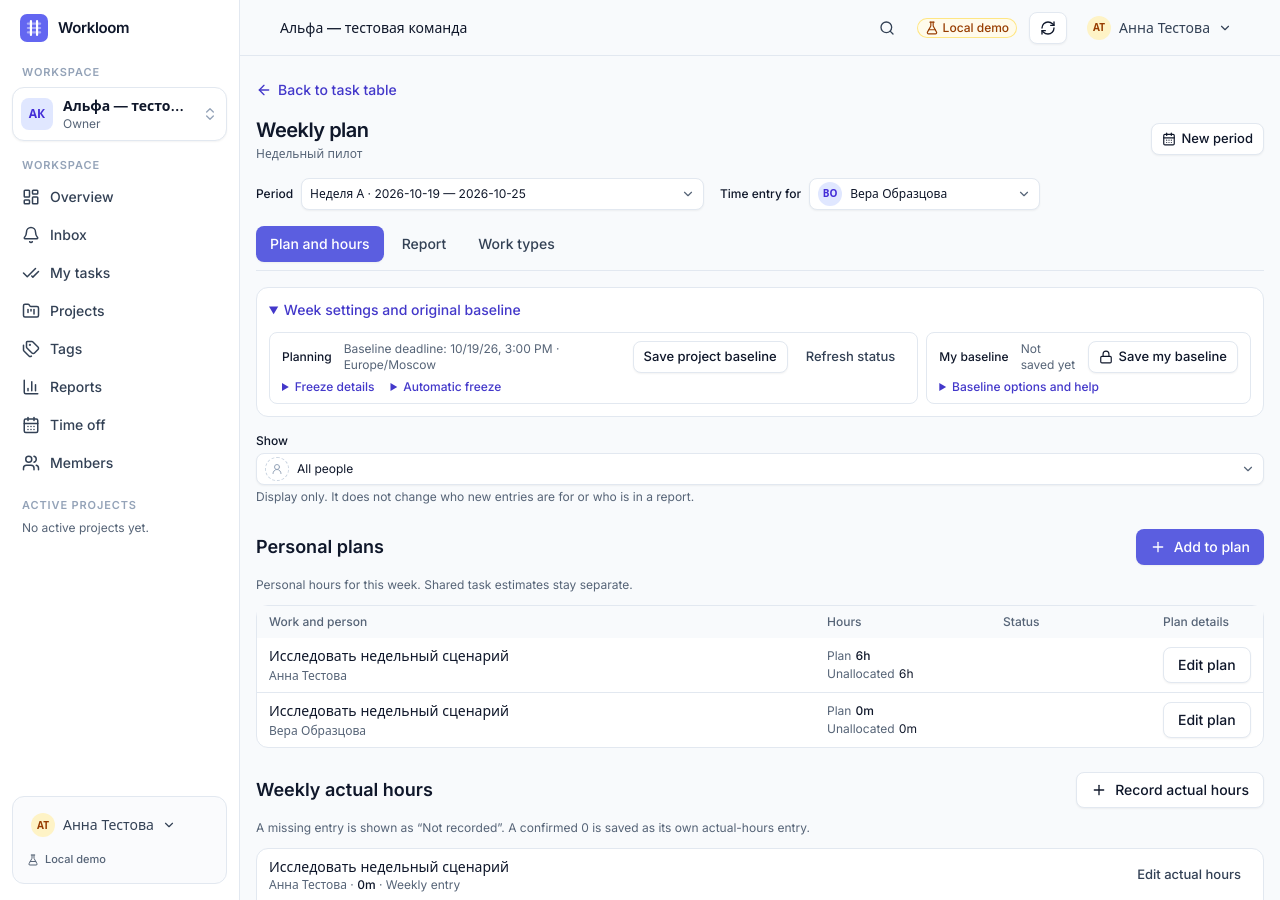
Test: weekly plans and hours display lens › announces a hidden saved-plan draft and restores its exact person and hours through Show all
Expected: the table named "Personal plans" is shown, [257,606,1263,747]
Click the 2nd button "Edit plan": coordinates (1207, 720) [1163,702,1251,738]
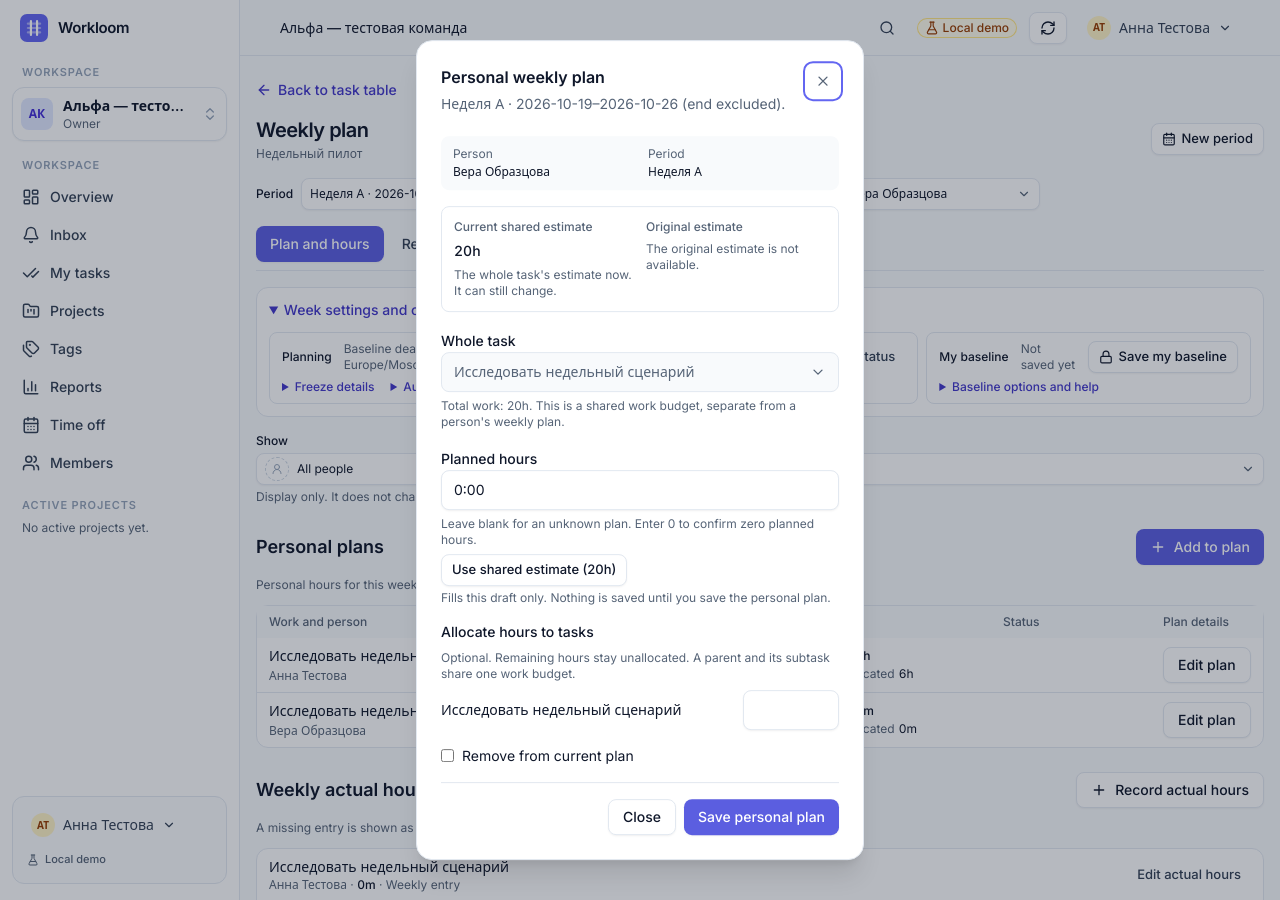
Replace the text in the field labelled "Planned hours" with "2:15": coordinates (640, 490) [441,470,839,510]
Click the button named "Close": coordinates (823, 81) [807,65,839,97]
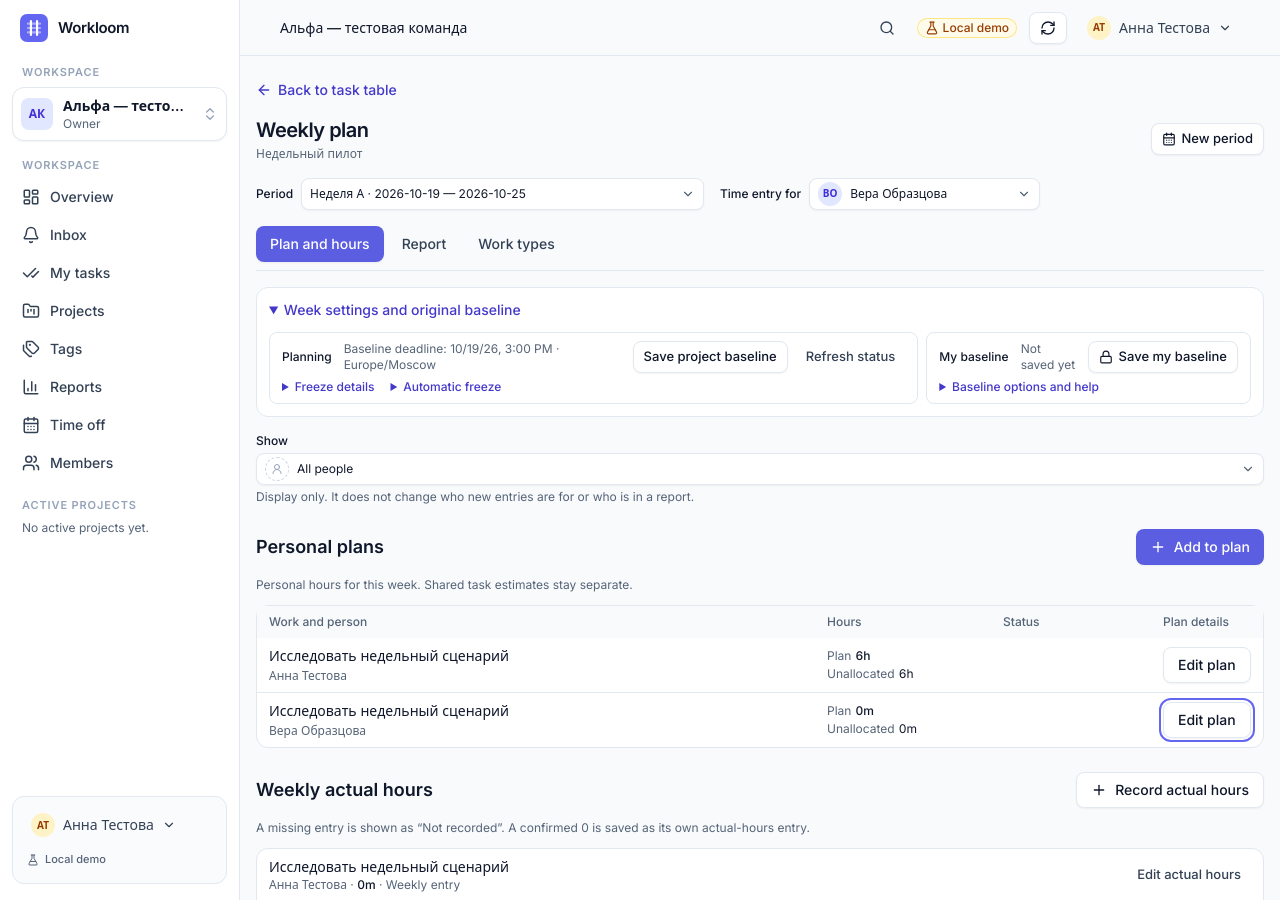
Click the dropdown named "Show plans and hours for": coordinates (325, 468) [256,453,1264,485]
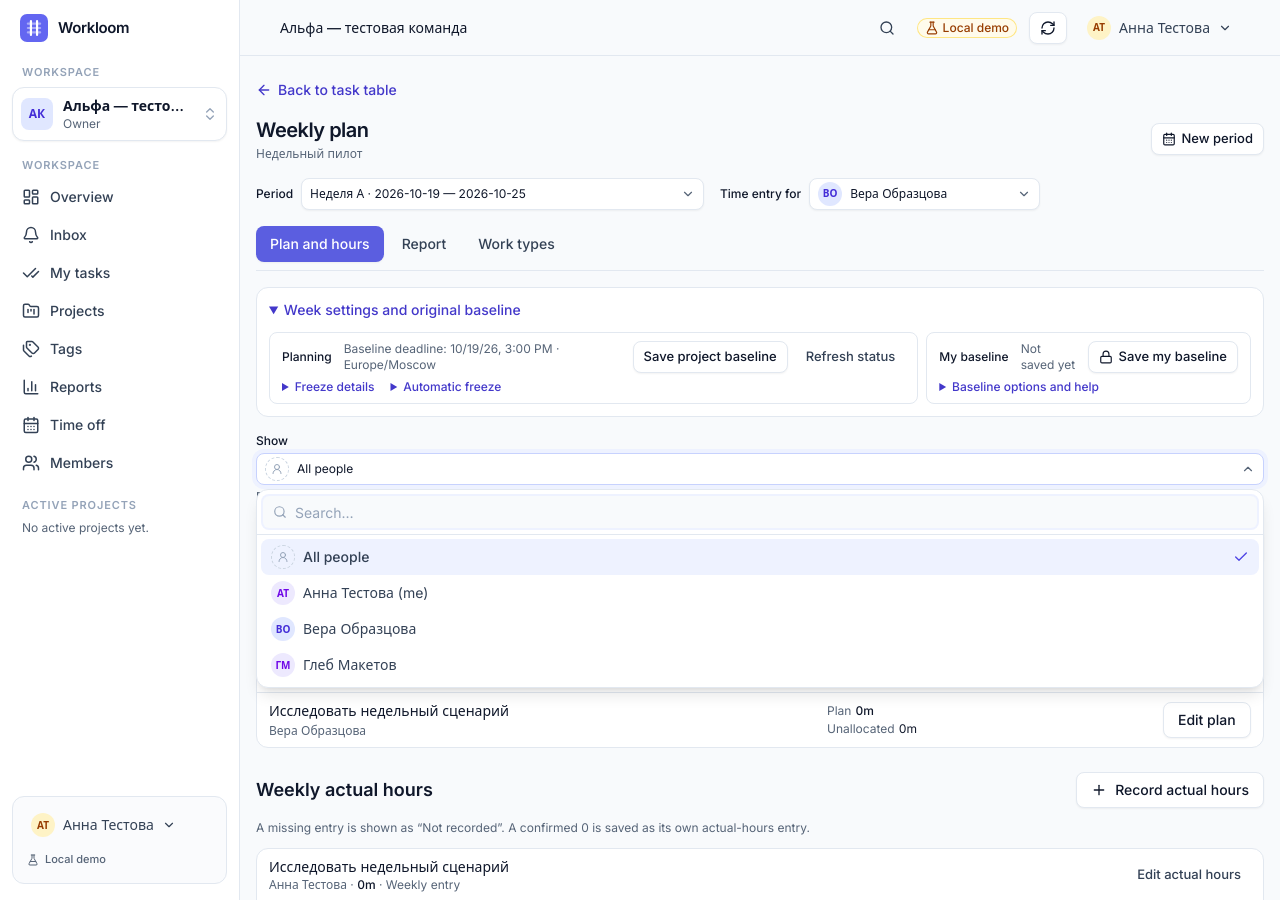
Click the option "АТ Анна Тестова (me)": coordinates (350, 593) [271,581,428,605]
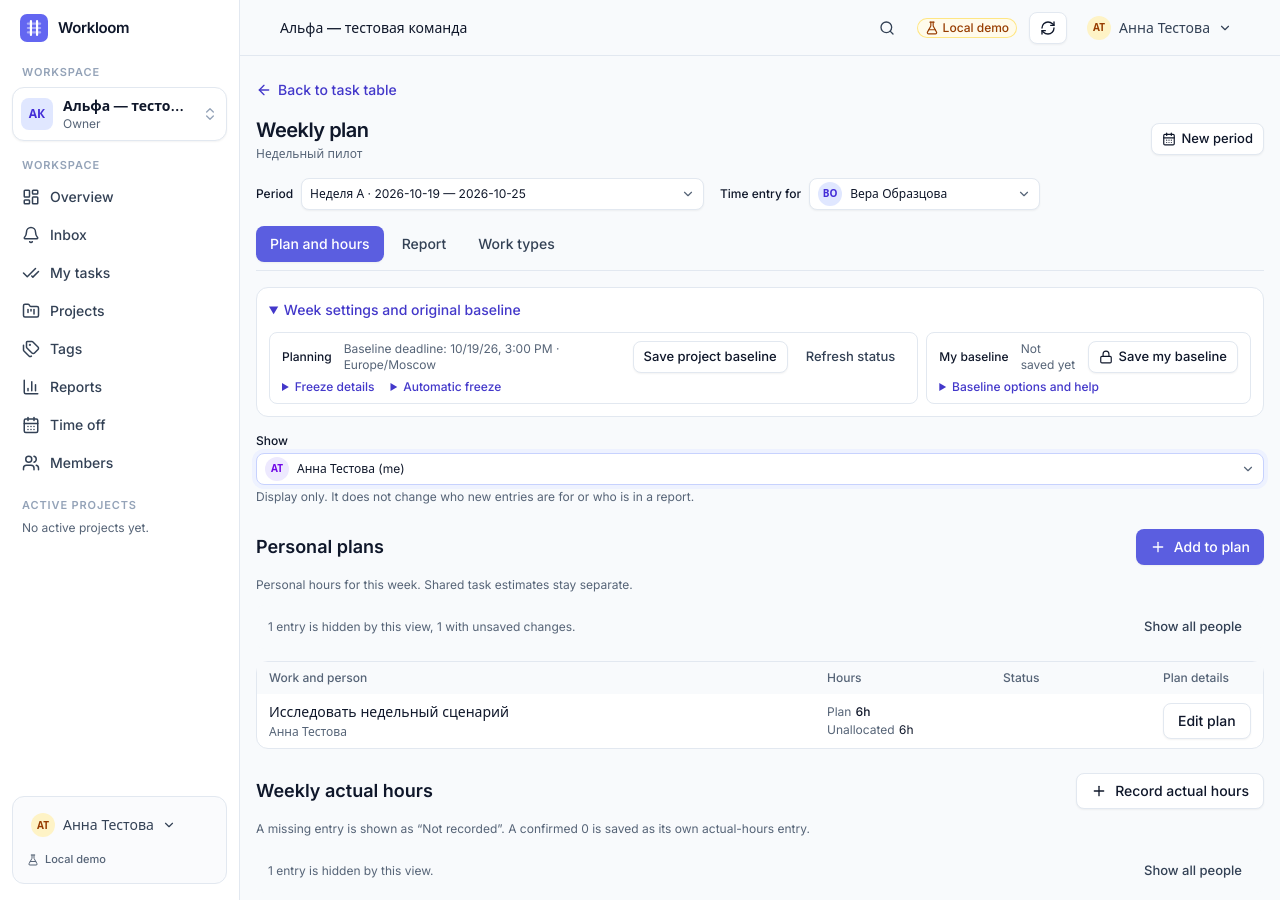
Result: the text "1 entry is hidden by this view, 1 with unsaved changes." is shown at [268,619,576,634]
Click the 1st button "Show all people": coordinates (1193, 627) [1134,611,1252,643]
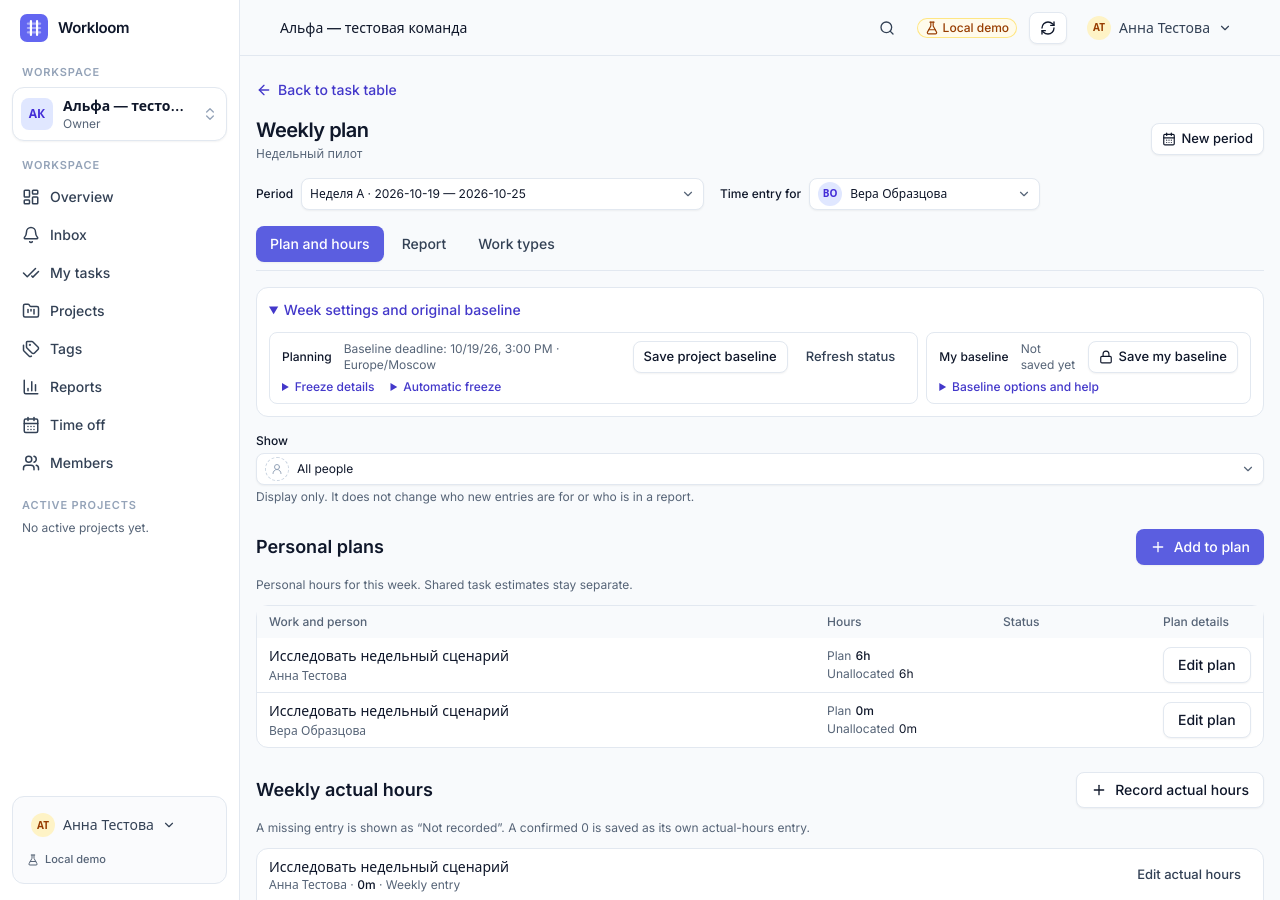
Click the 2nd button "Edit plan": coordinates (1207, 720) [1163,702,1251,738]
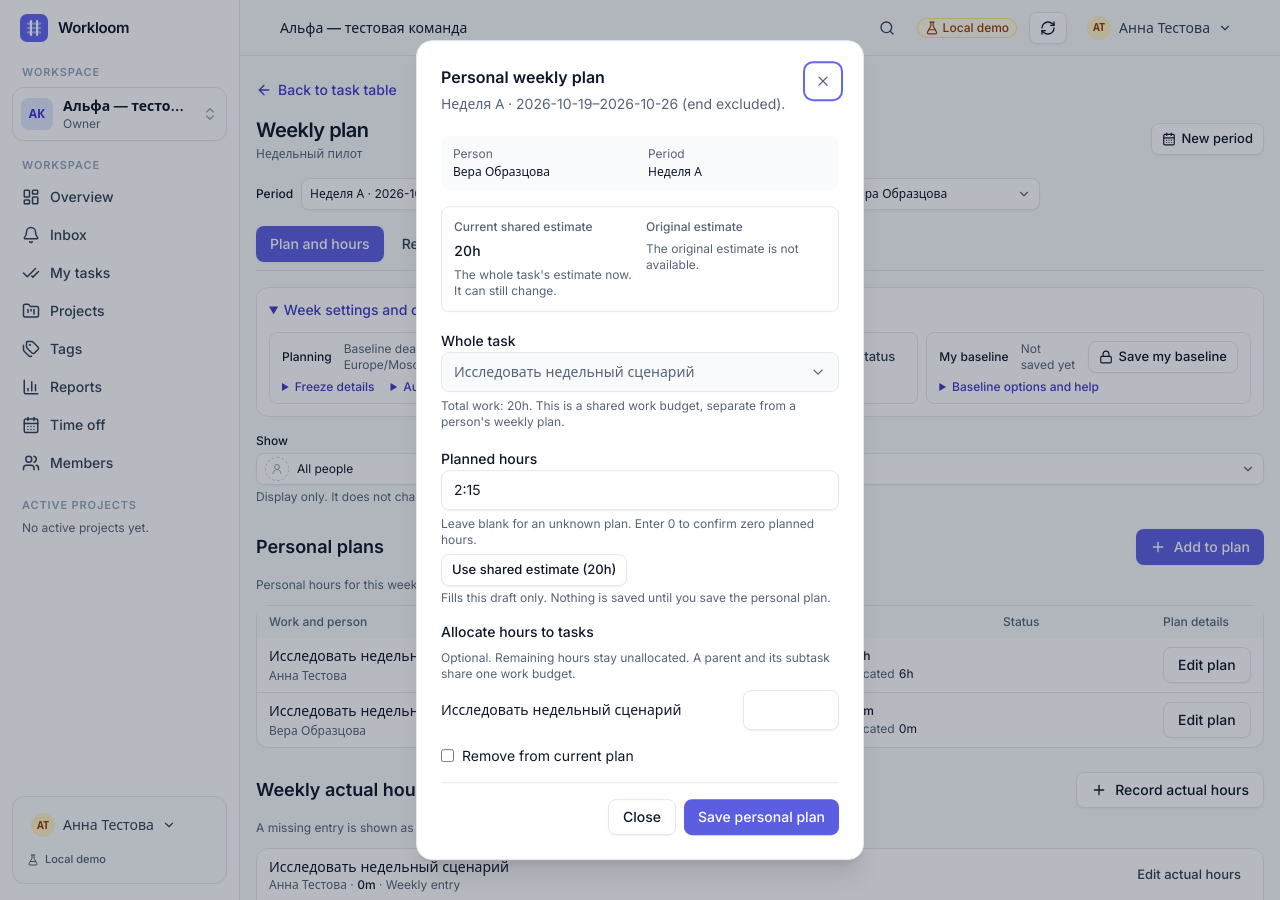
Result: the field labelled "Planned hours" holds "2:15" at [441,470,839,510]
Result: the dropdown named "Whole task" reads "Исследовать недельный сценарий" at [441,352,839,392]
Result: the element named "Time entry context" shows "Вера Образцова" at [453,164,550,179]
